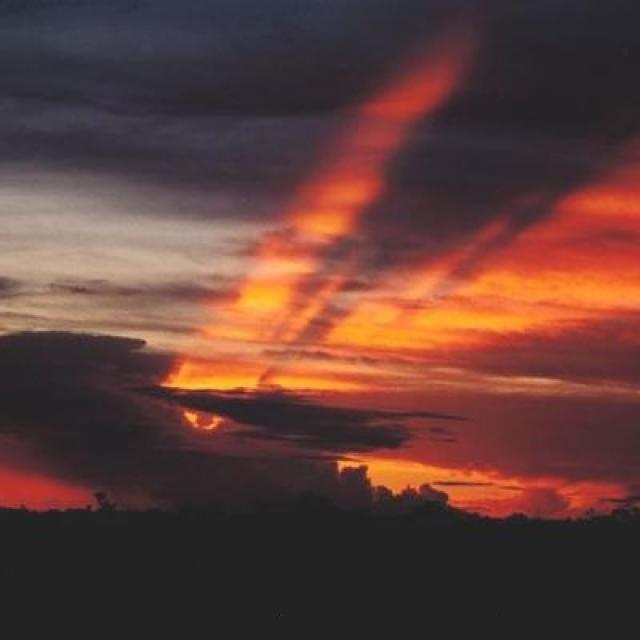Cb: (1, 56, 640, 514)
